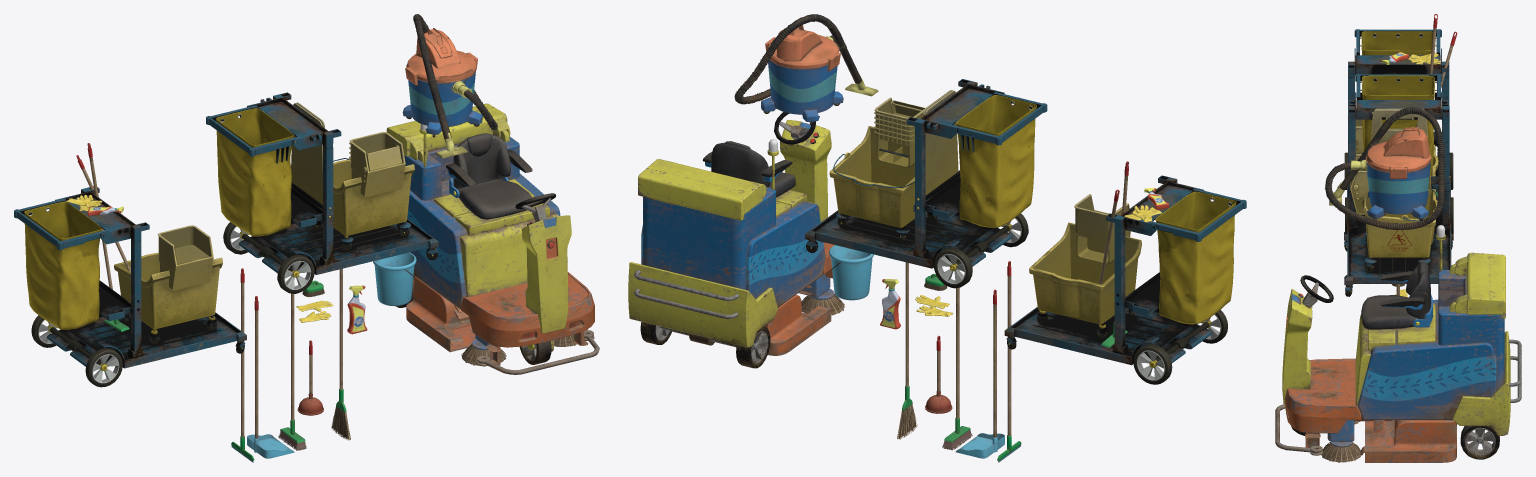
Rendered from Imported-Janitor.glb.
3 renders of one model, left to right at view 1: azimuth 30°, elevation 25°; view 2: azimuth 150°, elevation 25°; view 3: azimuth 270°, elevation 25°, orthographic. The views are drawn at different scales.
Visible parts, largest first — view 1: SM_ToolsKit_CleaninigCar.mo, SM_CleaningTools_Cart.mo, SM_CleaningTools_Cart_V2.mo, SM_ToolsKit_CleaninigMachine.mo, SM_CleaningTools_D.mo, SM_CleaningTools_G.mo, SM_CleaningTools_B.mo, SM_CleaningTools_H.mo, SM_CleaningTools_E.mo, SM_CleaningTools_C.mo, SM_CleaningTools_F.mo; view 2: SM_ToolsKit_CleaninigCar.mo, SM_CleaningTools_Cart.mo, SM_CleaningTools_Cart_V2.mo, SM_ToolsKit_CleaninigMachine.mo, SM_CleaningTools_D.mo, SM_CleaningTools_G.mo, SM_CleaningTools_B.mo, SM_CleaningTools_H.mo, SM_CleaningTools_E.mo, SM_CleaningTools_C.mo, SM_CleaningTools_F.mo; view 3: SM_ToolsKit_CleaninigCar.mo, SM_CleaningTools_Cart.mo, SM_ToolsKit_CleaninigMachine.mo, SM_CleaningTools_Cart_V2.mo.
Part boxes in pixels (x1=…): SM_ToolsKit_CleaninigCar.mo: x1=386, y1=103, x2=599, y2=374; SM_CleaningTools_Cart.mo: x1=206, y1=92, x2=438, y2=293; SM_CleaningTools_Cart_V2.mo: x1=14, y1=143, x2=246, y2=387; SM_ToolsKit_CleaninigMachine.mo: x1=402, y1=14, x2=497, y2=158; SM_CleaningTools_D.mo: x1=373, y1=252, x2=416, y2=306; SM_CleaningTools_G.mo: x1=247, y1=296, x2=294, y2=458; SM_CleaningTools_B.mo: x1=331, y1=268, x2=350, y2=440; SM_CleaningTools_H.mo: x1=278, y1=275, x2=306, y2=450; SM_CleaningTools_E.mo: x1=231, y1=268, x2=254, y2=462; SM_CleaningTools_C.mo: x1=347, y1=285, x2=367, y2=334; SM_CleaningTools_F.mo: x1=297, y1=340, x2=323, y2=415; SM_ToolsKit_CleaninigCar.mo: x1=628, y1=112, x2=844, y2=368; SM_CleaningTools_Cart.mo: x1=805, y1=79, x2=1047, y2=288; SM_CleaningTools_Cart_V2.mo: x1=1004, y1=161, x2=1246, y2=384; SM_ToolsKit_CleaninigMachine.mo: x1=734, y1=14, x2=878, y2=124; SM_CleaningTools_D.mo: x1=829, y1=245, x2=873, y2=300; SM_CleaningTools_G.mo: x1=955, y1=289, x2=1004, y2=458; SM_CleaningTools_B.mo: x1=897, y1=262, x2=917, y2=439; SM_CleaningTools_H.mo: x1=942, y1=269, x2=972, y2=450; SM_CleaningTools_E.mo: x1=997, y1=261, x2=1021, y2=462; SM_CleaningTools_C.mo: x1=880, y1=279, x2=900, y2=329; SM_CleaningTools_F.mo: x1=925, y1=335, x2=952, y2=413; SM_ToolsKit_CleaninigCar.mo: x1=1275, y1=225, x2=1521, y2=462; SM_CleaningTools_Cart.mo: x1=1344, y1=73, x2=1453, y2=296; SM_ToolsKit_CleaninigMachine.mo: x1=1325, y1=107, x2=1445, y2=230; SM_CleaningTools_Cart_V2.mo: x1=1344, y1=14, x2=1457, y2=251.
Bounding box in the file's own units: 4.79 × 3.44 × 2.1.
17 materials, 16 textured.
